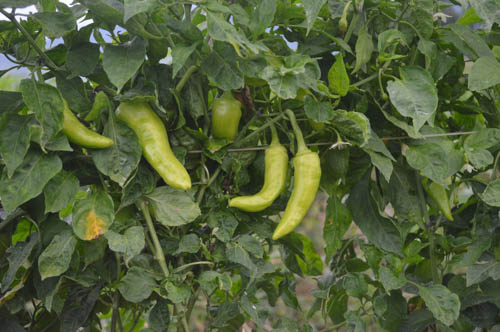ChiliPepper: (119, 97, 190, 190), (274, 156, 323, 251), (226, 148, 286, 216), (57, 108, 114, 149), (208, 96, 243, 145)
